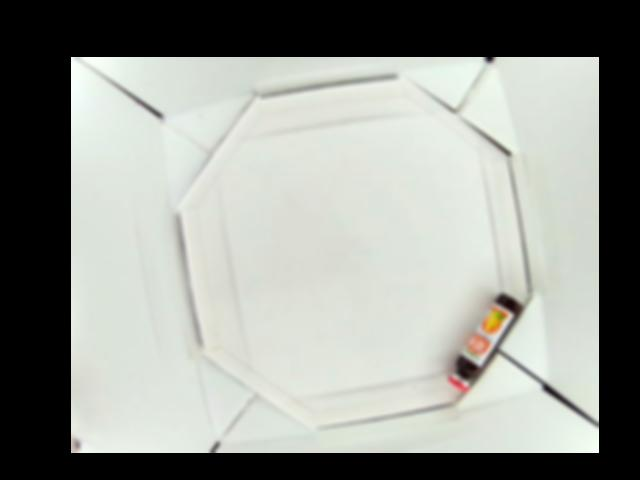Medicine: (448, 293, 524, 389)
